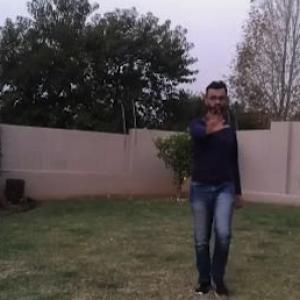follow_hand: (201, 105, 229, 136)
